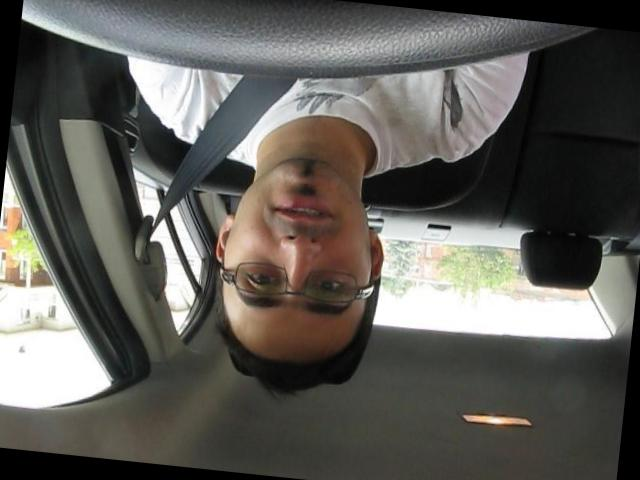eye_open: (302, 271, 352, 302), (242, 266, 284, 294)
face: (220, 152, 385, 348)
